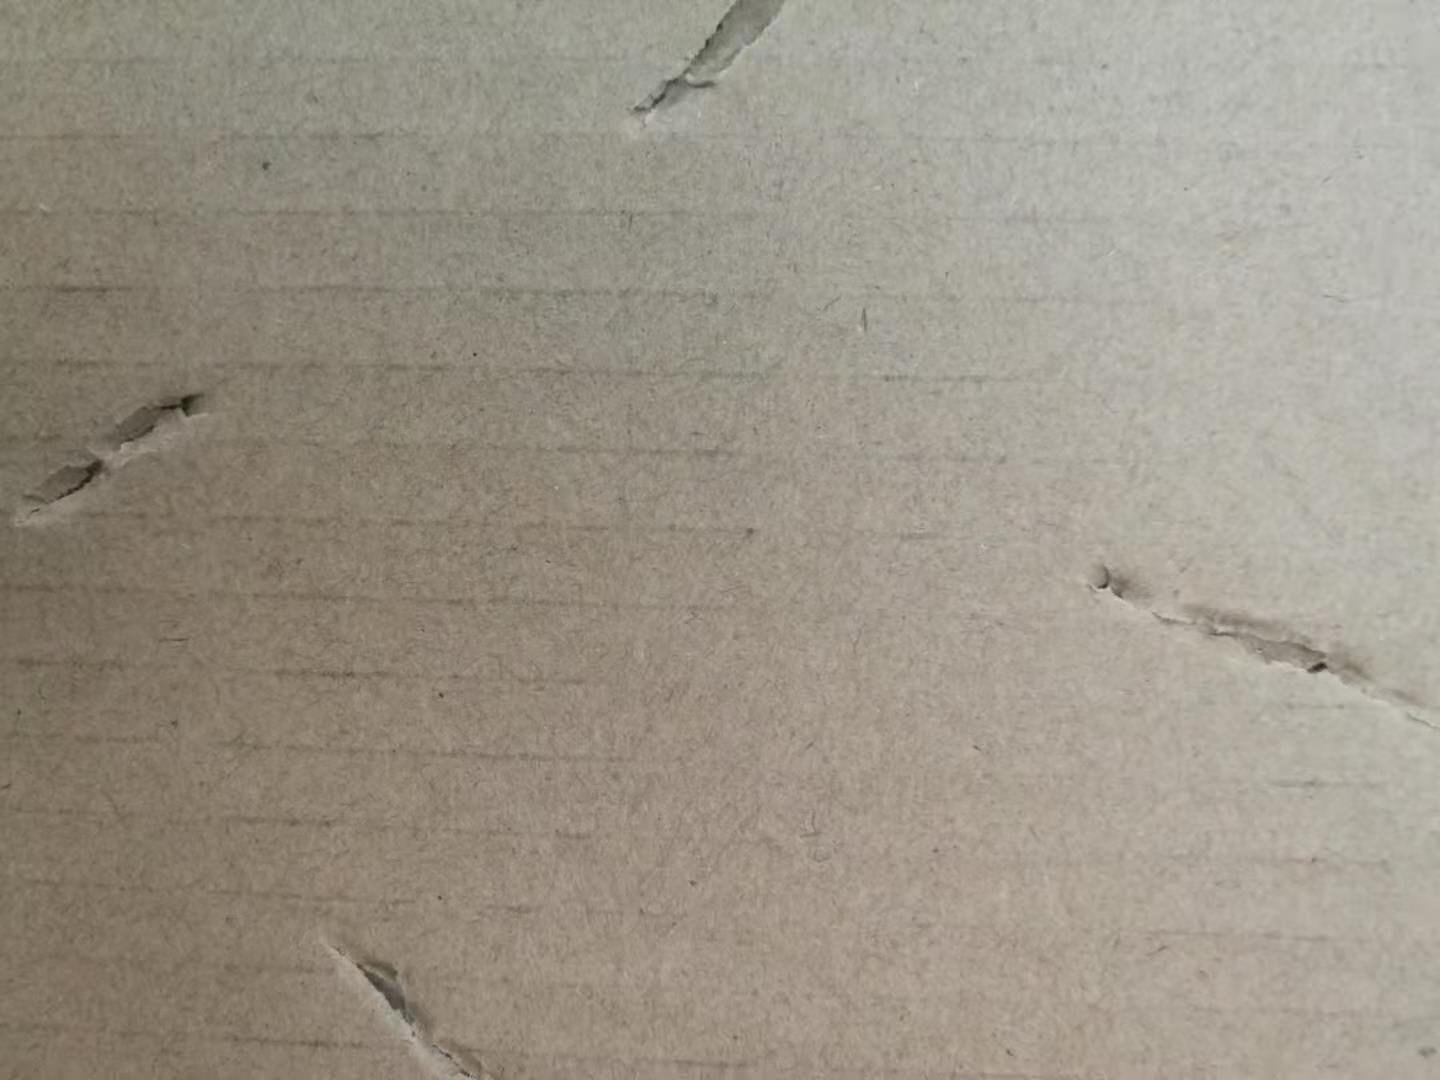defect: (1067, 526, 1440, 760), (5, 340, 257, 555), (300, 906, 516, 1080), (598, 1, 840, 144)
